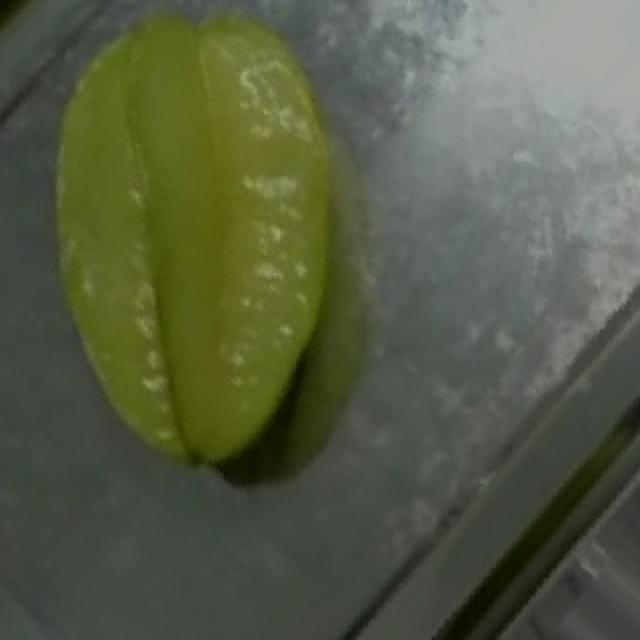fruit: (0, 0, 406, 360)
